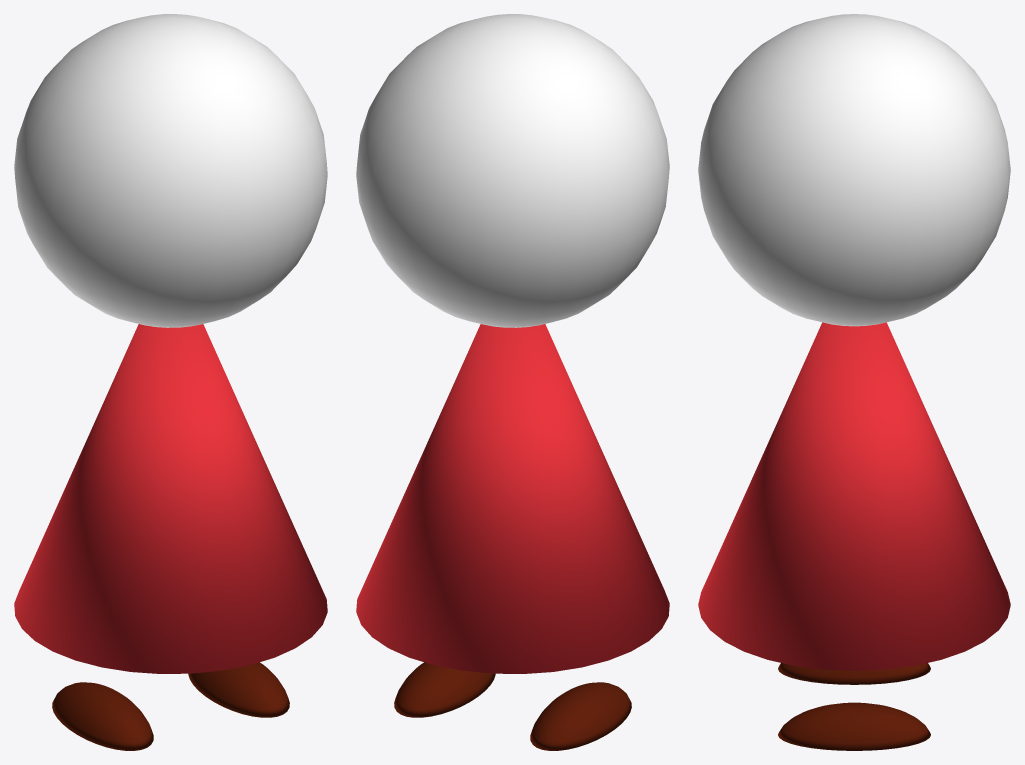
Rendered from Player_H.fbx.
3 views of the same model, side by side, from view 1: azimuth 30°, elevation 25°; view 2: azimuth 150°, elevation 25°; view 3: azimuth 270°, elevation 25° (orthographic).
Parts seen in each view (by area): view 1: Head, Body, Shoes_R, Shoes_L; view 2: Head, Body, Shoes_R, Shoes_L; view 3: Head, Body, Shoes_L, Shoes_R.
Boxes of the visible parts, x1,y1,x2,y2 form: Head: [14, 14, 327, 327]; Body: [14, 324, 327, 673]; Shoes_R: [52, 682, 153, 750]; Shoes_L: [188, 662, 289, 717]; Head: [356, 14, 669, 327]; Body: [356, 324, 669, 673]; Shoes_R: [530, 682, 631, 750]; Shoes_L: [394, 662, 495, 717]; Head: [698, 14, 1010, 326]; Body: [698, 322, 1010, 670]; Shoes_L: [778, 702, 930, 750]; Shoes_R: [778, 663, 930, 684].
Size of the model in its own units: 0.4 by 0.9502 by 0.4.
